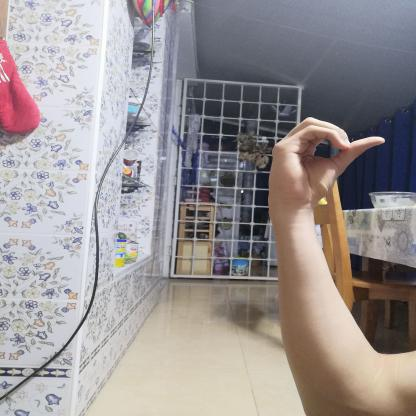WAW: (259, 108, 396, 216)
